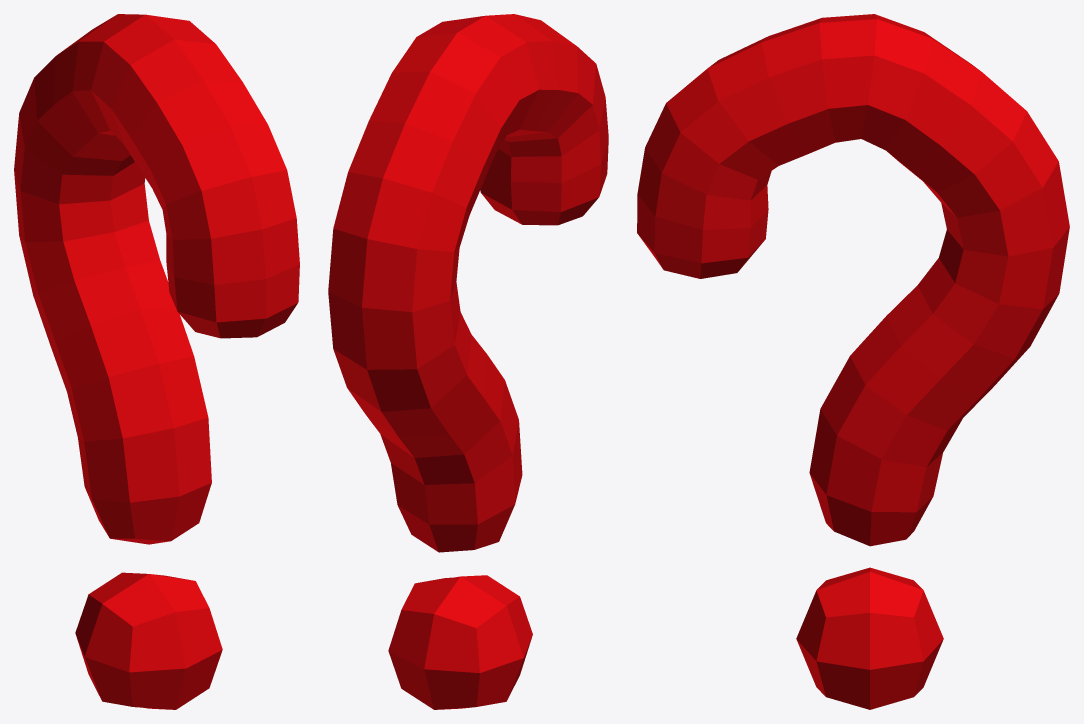
File: QuestionMark.fbx
3 views of the same model, side by side, from view 1: azimuth 30°, elevation 25°; view 2: azimuth 150°, elevation 25°; view 3: azimuth 270°, elevation 25° (orthographic).
Visible parts, largest first — view 1: Plane, Cube; view 2: Plane, Cube; view 3: Plane, Cube.
Boxes of the visible parts, <box> form: Plane: <box>14,14,299,544</box>; Cube: <box>75,572,222,709</box>; Plane: <box>328,14,608,552</box>; Cube: <box>388,575,532,709</box>; Plane: <box>637,14,1069,546</box>; Cube: <box>796,567,943,709</box>.
Size of the model in its own units: 20.05 by 103 by 58.77.
